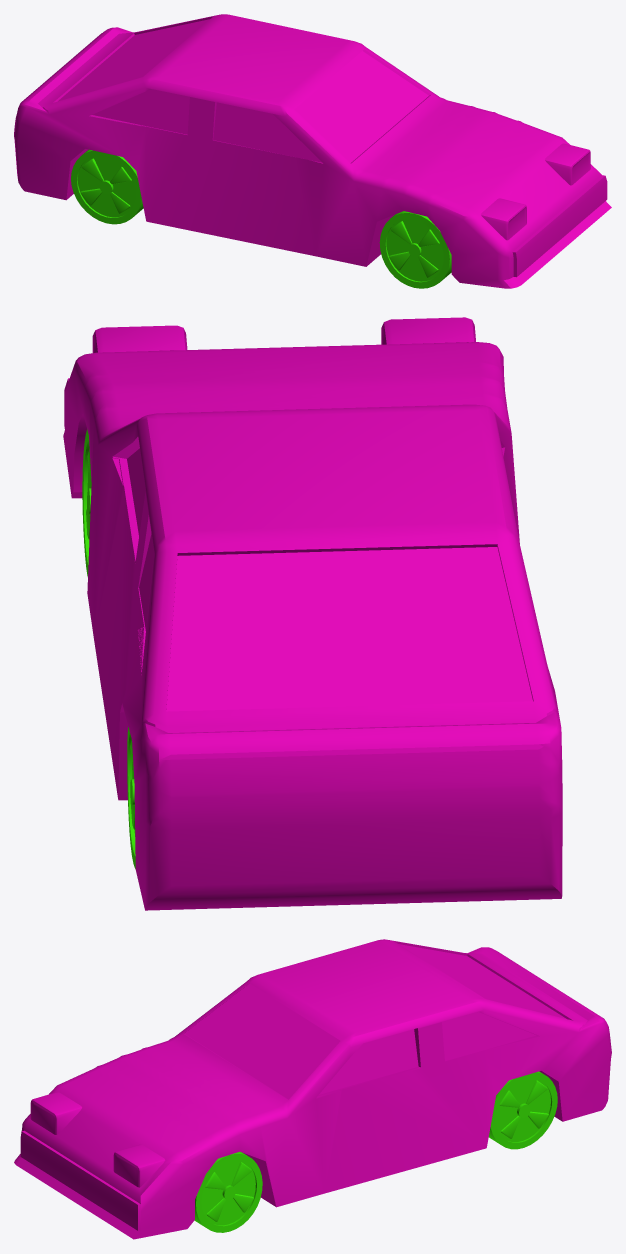
The picture shows the model from 3 angles, top to bottom: view 1: azimuth 30°, elevation 25°; view 2: azimuth 150°, elevation 25°; view 3: azimuth 270°, elevation 25°; orthographic projection. The views are drawn at different scales.
Visible parts, largest first — view 1: Cube.030, Cylinder.002; view 2: Cube.030, Cylinder.002; view 3: Cube.030, Cylinder.002.
Part boxes in pixels (x1,y1,x2,y2): Cube.030: (14,14,611,288); Cylinder.002: (71,149,451,288); Cube.030: (63,317,562,910); Cylinder.002: (82,429,135,868); Cube.030: (14,939,611,1239); Cylinder.002: (194,1071,557,1232).
Bounding box in the file's own units: 0.7647 × 0.2533 × 0.9086.
